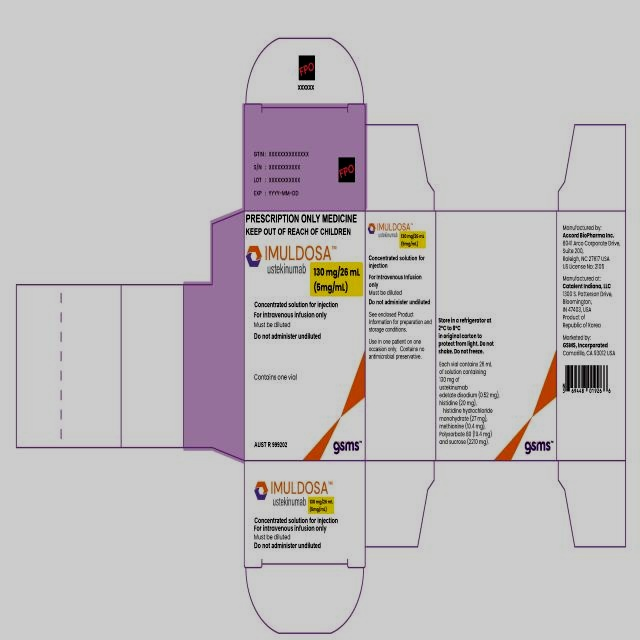Artwork: (0, 0, 640, 640)
Back_Panel: (435, 211, 557, 460)
Bottom_Part: (242, 104, 366, 212)
Extra_Areas: (15, 208, 243, 462), (245, 36, 365, 105), (244, 566, 364, 635), (365, 459, 436, 549), (557, 122, 627, 211), (557, 461, 627, 550), (366, 122, 435, 211)
Front_Panel: (245, 212, 365, 461)
Side_Panel: (366, 212, 437, 461), (557, 212, 625, 461)
Top_Panel: (244, 461, 366, 566)
